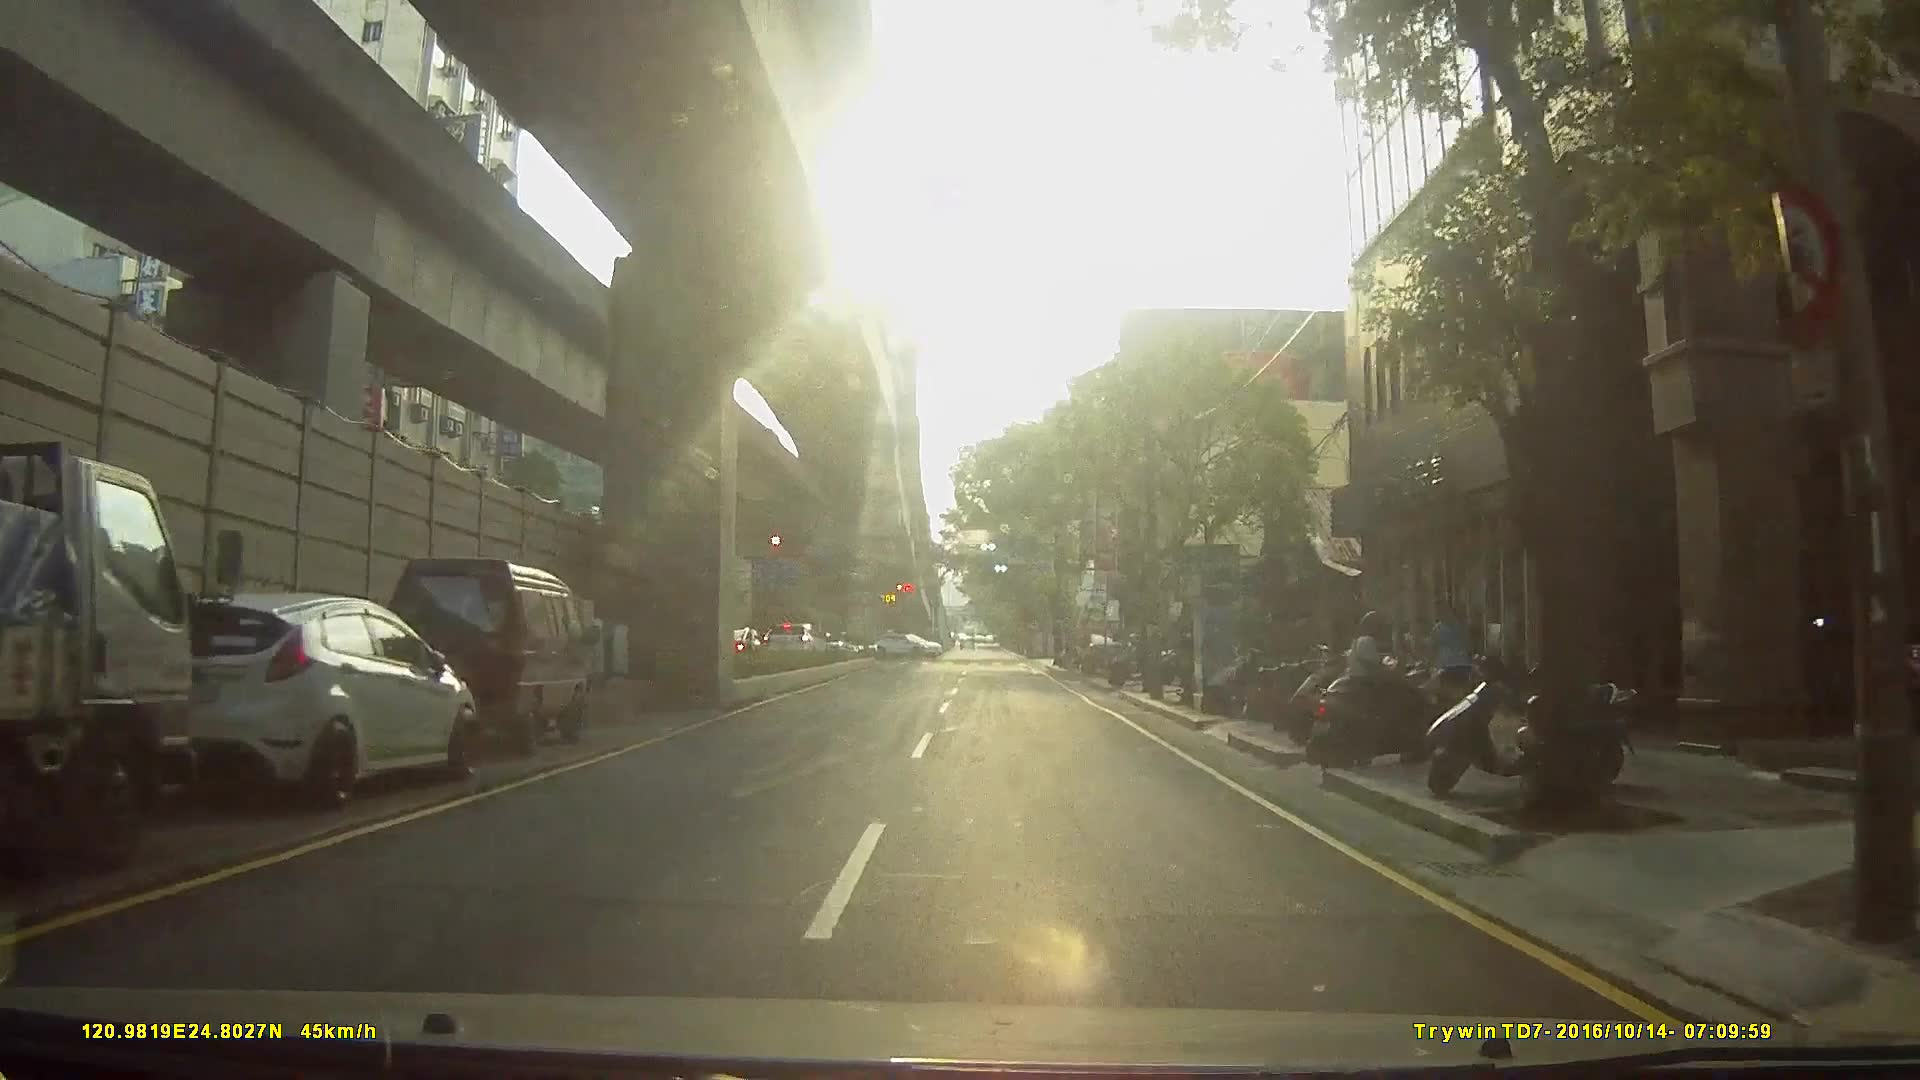pedestrian: (1420, 596, 1475, 728)
rider: (1307, 606, 1460, 773)
vehicle: (1, 438, 259, 889), (141, 581, 490, 819), (366, 549, 598, 758), (760, 619, 831, 662), (1075, 628, 1124, 672), (873, 629, 943, 657)
